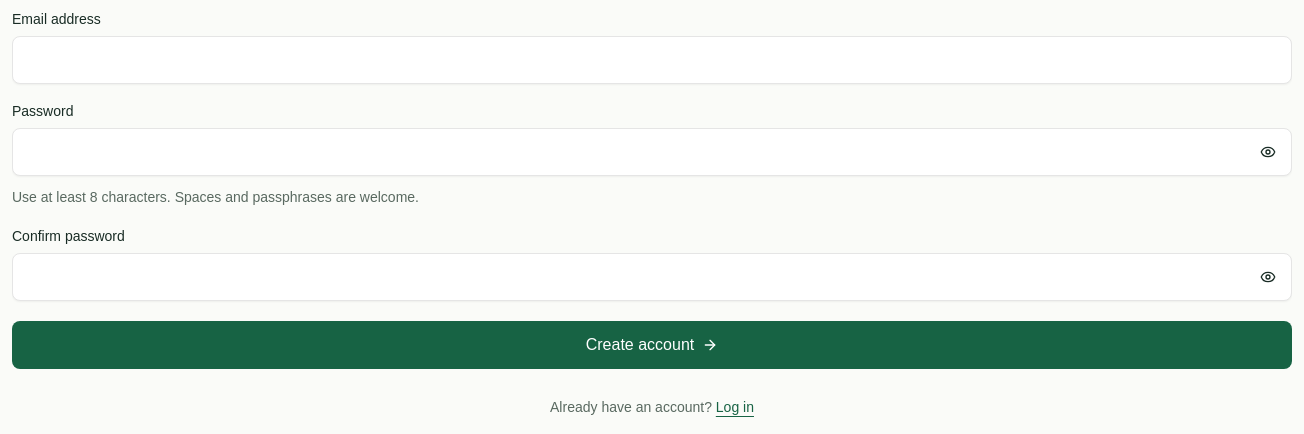
Test: auth forms › replaces signup fields with confirmation guidance after a successful request
Click the button "Create account". click: (652, 345)
box: [12,321,1292,369]
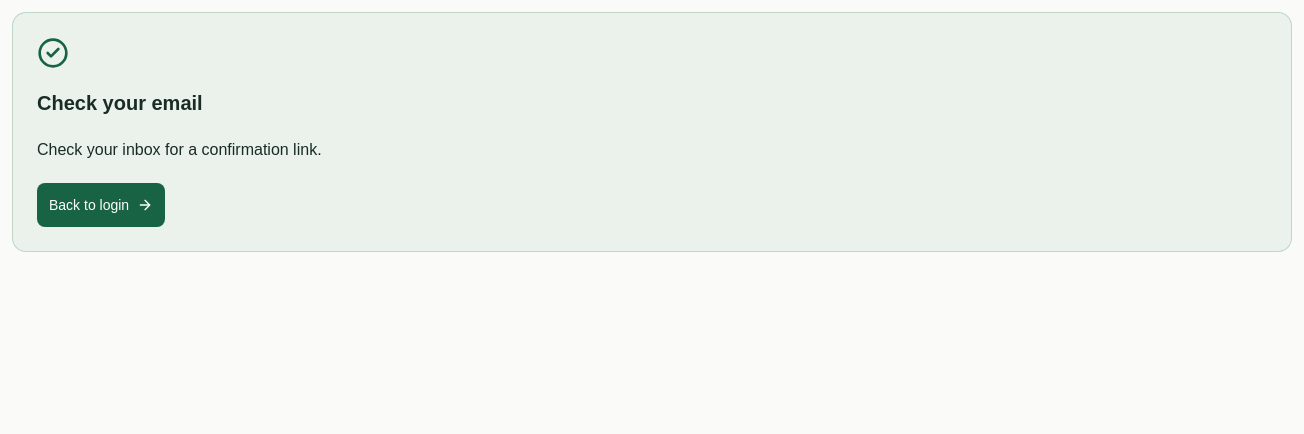
Expected: the heading "Check your email" is shown, [37,92,203,114]
Expected: the label labelled "Password" is gone
